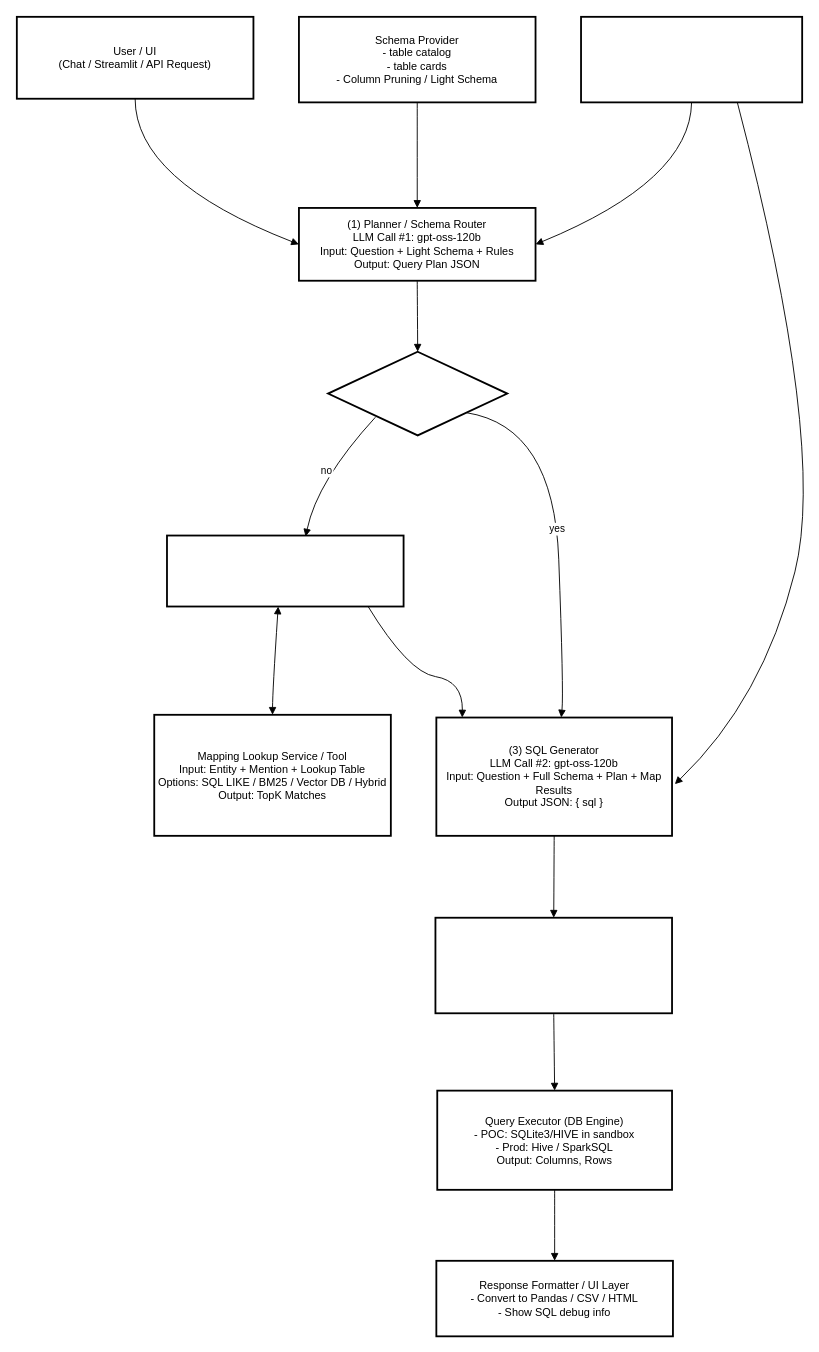
The diagram is 819 pixels wide and 1352 high, and some of its shapes have lost their labels. The centre of each missing label's shape, as x and y in pixels:
(2) Mapping Lookup Executor: (285,570)
Lookup Requests Empty?: (417,393)
Prompt Store (Markdown) - planner.md - sql_generator.md - repair.md: (691,59)
SQL Guard / Policy - SELECT only / No INSERT, UPDATE, DELETE: (553,965)
